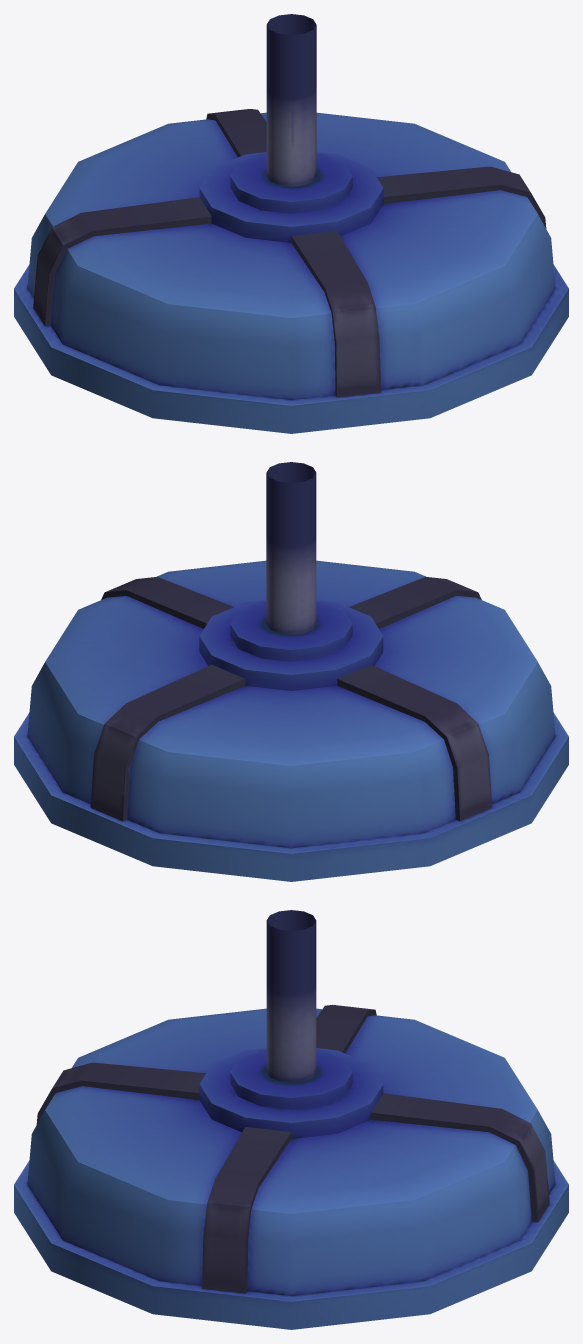
Rendered from Chan.fbx.
3 renders of one model, top to bottom at view 1: azimuth 30°, elevation 25°; view 2: azimuth 150°, elevation 25°; view 3: azimuth 270°, elevation 25°, orthographic.
Visible parts, largest first — view 1: Chan; view 2: Chan; view 3: Chan.
Boxes of the visible parts, x1,y1,x2,y2 form: Chan: (14,14,568,433); Chan: (14,462,568,881); Chan: (14,910,568,1329).
Size of the model in its own units: 285 by 165 by 285.
1 material, 1 textured.
